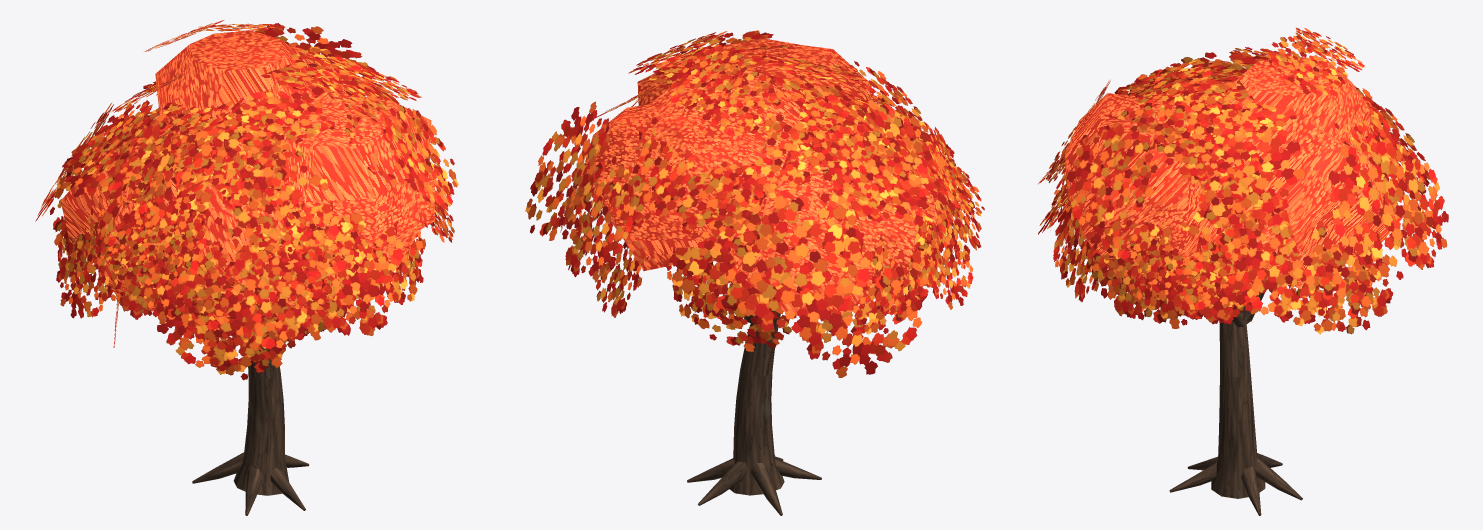
Rendered from tree_maple.gltf.
The picture shows the model from 3 angles, left to right: view 1: azimuth 30°, elevation 25°; view 2: azimuth 150°, elevation 25°; view 3: azimuth 270°, elevation 25°; orthographic projection.
Parts seen in each view (by area): view 1: Crown, Trunk; view 2: Crown, Trunk; view 3: Crown, Trunk.
Boxes of the visible parts, x1,y1,x2,y2 form: Crown: (35, 20, 458, 380); Trunk: (192, 341, 309, 515); Crown: (525, 30, 984, 377); Trunk: (687, 311, 821, 515); Crown: (1038, 27, 1448, 334); Trunk: (1169, 290, 1302, 515).
Size of the model in its own units: 8.05 by 8.88 by 7.96.
3 materials, 3 textured.
